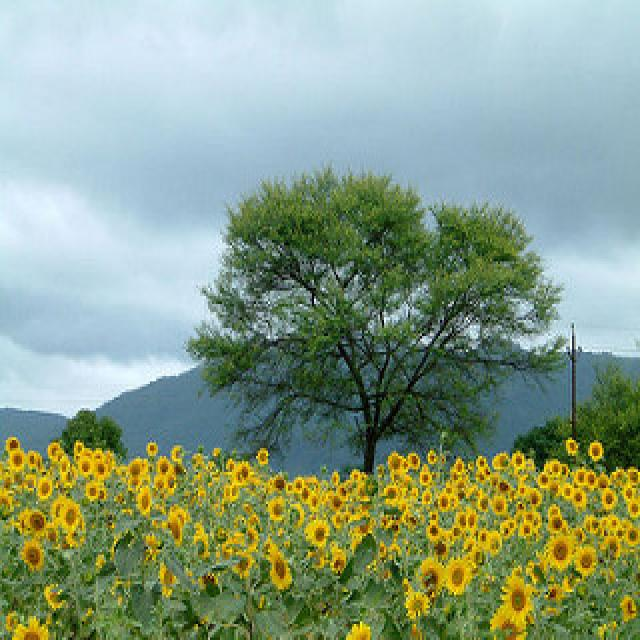sunflower: (498, 573, 534, 627), (410, 555, 448, 600), (266, 542, 296, 598), (444, 555, 474, 597), (544, 530, 574, 570), (18, 536, 46, 576), (162, 510, 188, 550), (58, 499, 86, 536), (572, 541, 598, 579), (304, 517, 332, 552), (132, 483, 156, 520), (266, 496, 290, 525), (30, 475, 54, 504), (8, 445, 28, 475), (384, 448, 406, 475), (620, 595, 640, 624), (588, 437, 608, 464), (76, 453, 94, 478)
